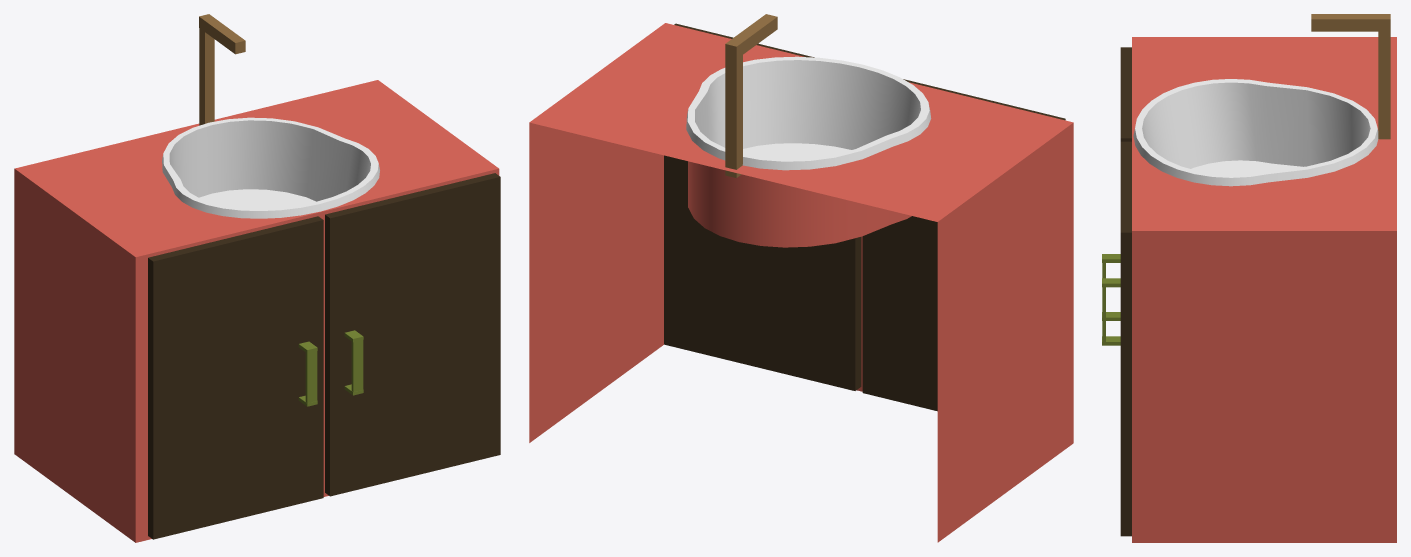
The model's file is 4 sink.fbx.
The picture shows the model from 3 angles, left to right: view 1: azimuth 30°, elevation 25°; view 2: azimuth 150°, elevation 25°; view 3: azimuth 270°, elevation 25°; orthographic projection. The views are drawn at different scales.
Visible parts, largest first — view 1: 4 sink; view 2: 4 sink; view 3: 4 sink.
Part boxes in pixels (x1,y1,x2,y2): 4 sink: (14,14,500,542); 4 sink: (529,14,1073,542); 4 sink: (1102,14,1396,542).
Size of the model in its own units: 64.11 by 66.65 by 41.24.
